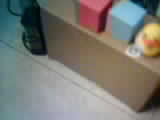duck: (132, 19, 158, 54)
